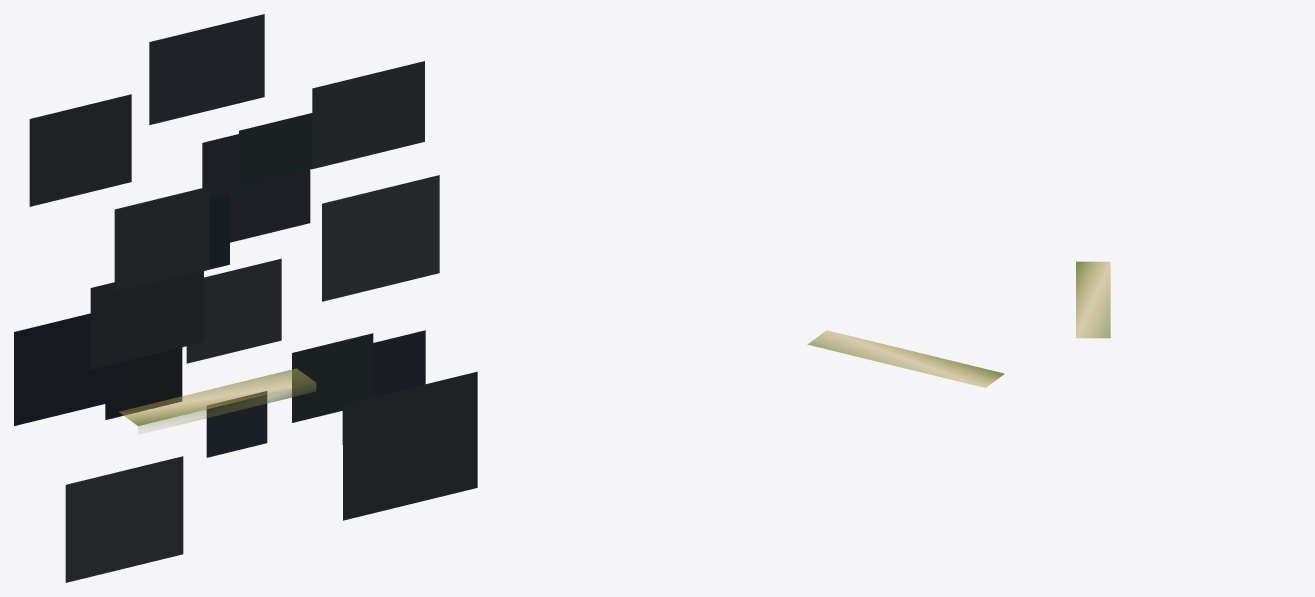
The model's file is PlatformJigglypuff.glb.
3 views of the same model, side by side, from view 1: azimuth 30°, elevation 25°; view 2: azimuth 150°, elevation 25°; view 3: azimuth 270°, elevation 25° (orthographic). The views are drawn at different scales.
Visible parts, largest first — view 1: PlatformJigglypuff_Alpha_1, PlatformJigglypuff_Alpha_138; view 2: PlatformJigglypuff_Alpha_138; view 3: PlatformJigglypuff_Alpha_138.
Part boxes in pixels (x1,y1,x2,y2): PlatformJigglypuff_Alpha_1: (14,14,477,582); PlatformJigglypuff_Alpha_138: (119,368,316,434); PlatformJigglypuff_Alpha_138: (807,330,1004,387); PlatformJigglypuff_Alpha_138: (1076,261,1110,338).
Size of the model in its own units: 1875 by 1875 by 974.
407 materials, 407 textured.
